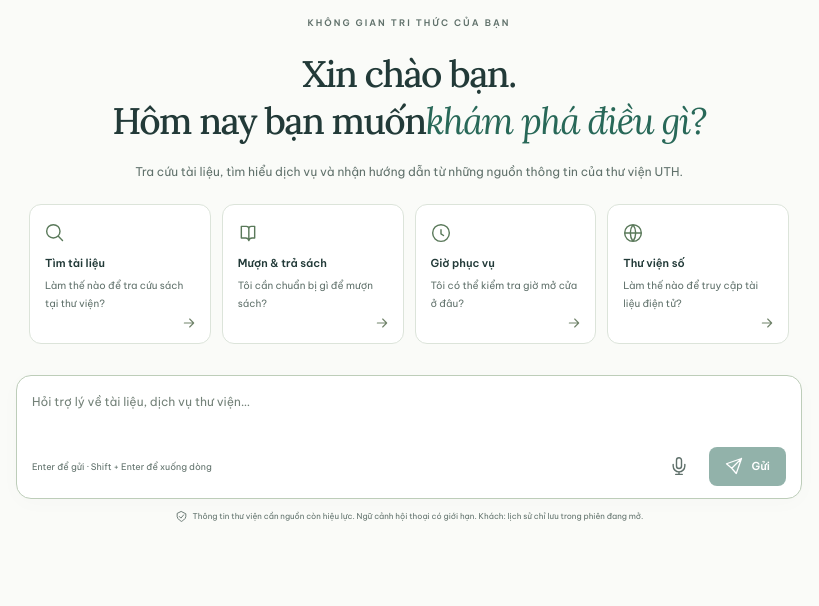
Test case: reader workflows › explains unsupported speech recognition without sending a request
Click the button named "Nhập bằng giọng nói": point(679, 466) [657, 444, 701, 488]
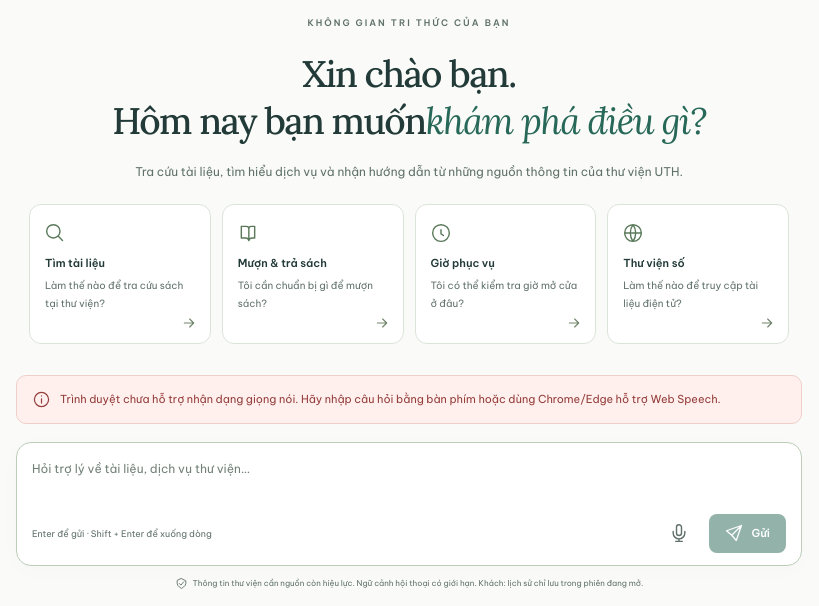
Expected: the message is shown, [16, 375, 802, 424]
